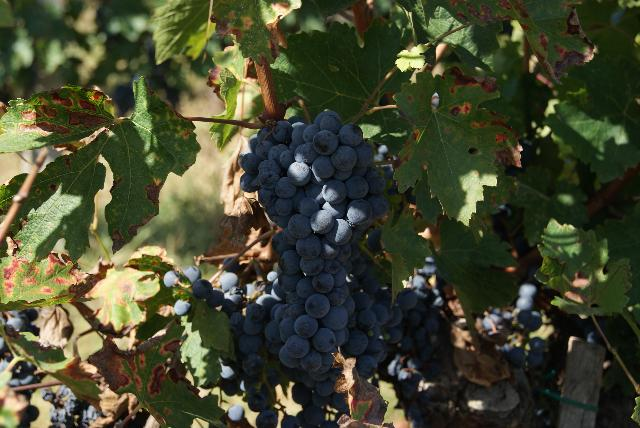grapes: (240, 110, 390, 372)
